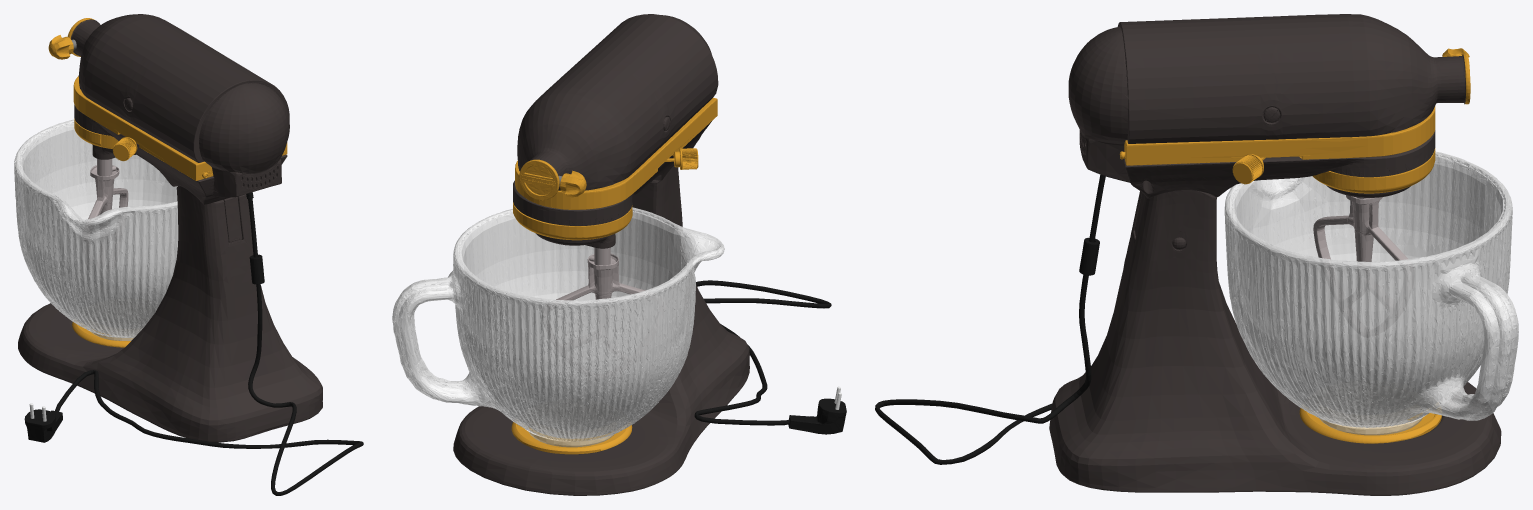
Rendered from mixer_brown.glb.
3 renders of one model, left to right at view 1: azimuth 30°, elevation 25°; view 2: azimuth 150°, elevation 25°; view 3: azimuth 270°, elevation 25°, orthographic. The views are drawn at different scales.
Visible parts, largest first — view 1: be6826c0-81ae-47d3-ab48-a48df9869435, 727f3ff3-abc3-4d98-aa86-a2ae63f54988; view 2: be6826c0-81ae-47d3-ab48-a48df9869435, 727f3ff3-abc3-4d98-aa86-a2ae63f54988; view 3: be6826c0-81ae-47d3-ab48-a48df9869435, 727f3ff3-abc3-4d98-aa86-a2ae63f54988.
Part boxes in pixels (<box>): be6826c0-81ae-47d3-ab48-a48df9869435: <box>18,14,363,495</box>; 727f3ff3-abc3-4d98-aa86-a2ae63f54988: <box>14,119,178,340</box>; be6826c0-81ae-47d3-ab48-a48df9869435: <box>453,14,846,495</box>; 727f3ff3-abc3-4d98-aa86-a2ae63f54988: <box>392,207,724,447</box>; be6826c0-81ae-47d3-ab48-a48df9869435: <box>875,14,1501,495</box>; 727f3ff3-abc3-4d98-aa86-a2ae63f54988: <box>1224,151,1518,435</box>.
Bounding box in the file's own units: 0.1212 × 0.1288 × 0.18.
